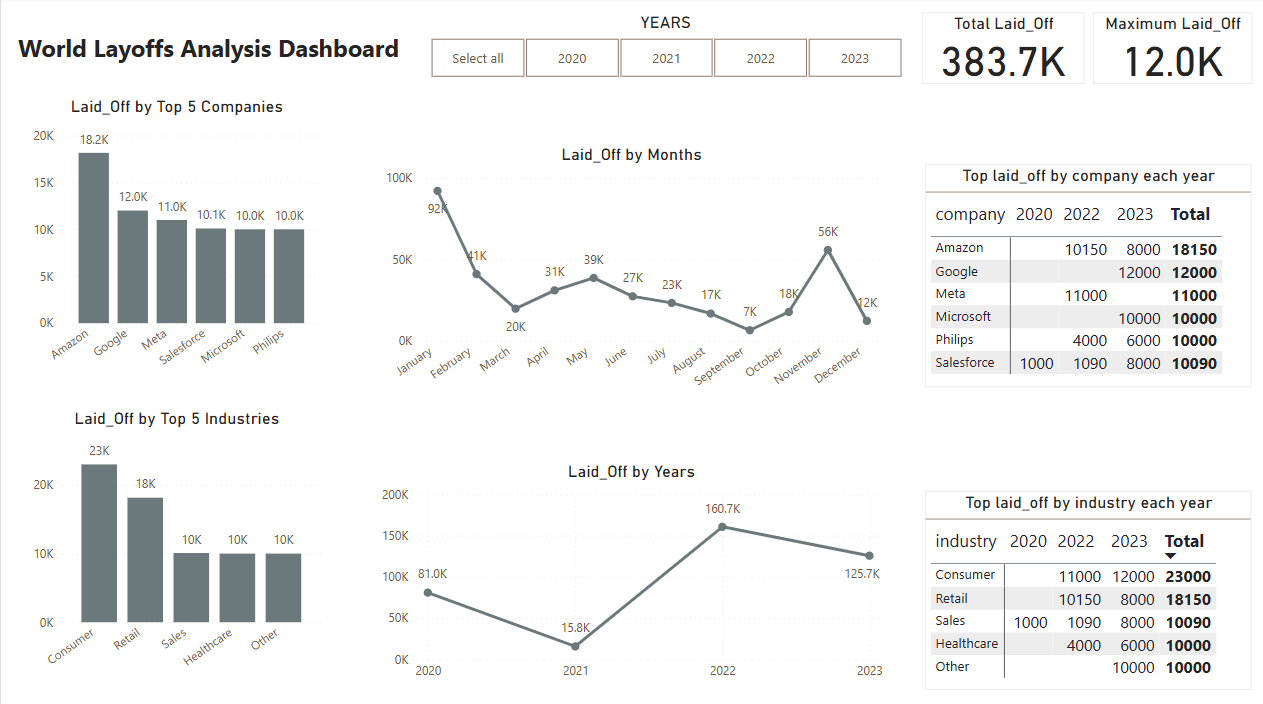

This screenshot's page, from the dashboard's own definition file:
{"tool":"powerbi","page":{"name":"Page 1","canvas":[1280,720],"ordinal":0},"visuals":[{"type":"columnChart","title":"Laid_Off by Top 5 Companies","fields":{"Category":["layoffs.company"],"Y":["Sum(layoffs.total_laid_off)"]},"box":[27.3,101.4,300.8,293.9],"z":1},{"type":"slicer","title":"YEARS","fields":{"Values":["layoffs.date.Variation.Date Hierarchy.Year"]},"box":[409,17.1,524.1,71.8],"z":2},{"type":"columnChart","title":"Laid_Off by Top 5 Industries","fields":{"Y":["Sum(layoffs.total_laid_off)"],"Category":["layoffs.industry"]},"box":[27.3,415.8,300.8,283.7],"z":3},{"type":"lineChart","title":"Laid_Off by Years","fields":{"Category":["layoffs.date.Variation.Date Hierarchy.Year"],"Y":["Sum(layoffs.total_laid_off)"]},"box":[378.2,469.4,516.1,230.1],"z":4},{"type":"lineChart","title":"Laid_Off by Months","fields":{"Y":["Sum(layoffs.total_laid_off)"],"Category":["layoffs.date.Variation.Date Hierarchy.Month"]},"box":[378.2,149.2,516.1,266.6],"z":5},{"type":"card","title":"Maximum Laid_Off","fields":{"Values":["Max(layoffs.total_laid_off)"]},"box":[1101.6,17.1,160.6,71.8],"z":6},{"type":"card","title":"Total Laid_Off","fields":{"Values":["Sum(layoffs.total_laid_off)"]},"box":[929.6,17.1,164.1,71.8],"z":8},{"type":"pivotTable","title":"Top laid_off by company each year","fields":{"Rows":["layoffs.company"],"Values":["Sum(layoffs.total_laid_off)"],"Columns":["layoffs.date.Variation.Date Hierarchy.Year"]},"box":[933,169.7,329.2,225.6],"z":9},{"type":"pivotTable","title":"Top laid_off by industry each year","fields":{"Values":["Sum(layoffs.total_laid_off)"],"Columns":["layoffs.date.Variation.Date Hierarchy.Year"],"Rows":["layoffs.industry"]},"box":[933,499,329.2,200.5],"z":10},{"type":"textbox","box":[12.5,29.6,407.8,46.7],"z":11}]}

Visuals, with their boxes in screenshot pixels (x1, y1, x2, y2), scaled from the page's 1280x720 canvas onto the 1263x704 screenshot:
"Laid_Off by Top 5 Companies" columnChart: l=27, t=99, r=324, b=387
"YEARS" slicer: l=404, t=17, r=921, b=87
"Laid_Off by Top 5 Industries" columnChart: l=27, t=407, r=324, b=684
"Laid_Off by Years" lineChart: l=373, t=459, r=882, b=684
"Laid_Off by Months" lineChart: l=373, t=146, r=882, b=407
"Maximum Laid_Off" card: l=1087, t=17, r=1245, b=87
"Total Laid_Off" card: l=917, t=17, r=1079, b=87
"Top laid_off by company each year" pivotTable: l=921, t=166, r=1245, b=387
"Top laid_off by industry each year" pivotTable: l=921, t=488, r=1245, b=684
textbox: l=12, t=29, r=415, b=75
